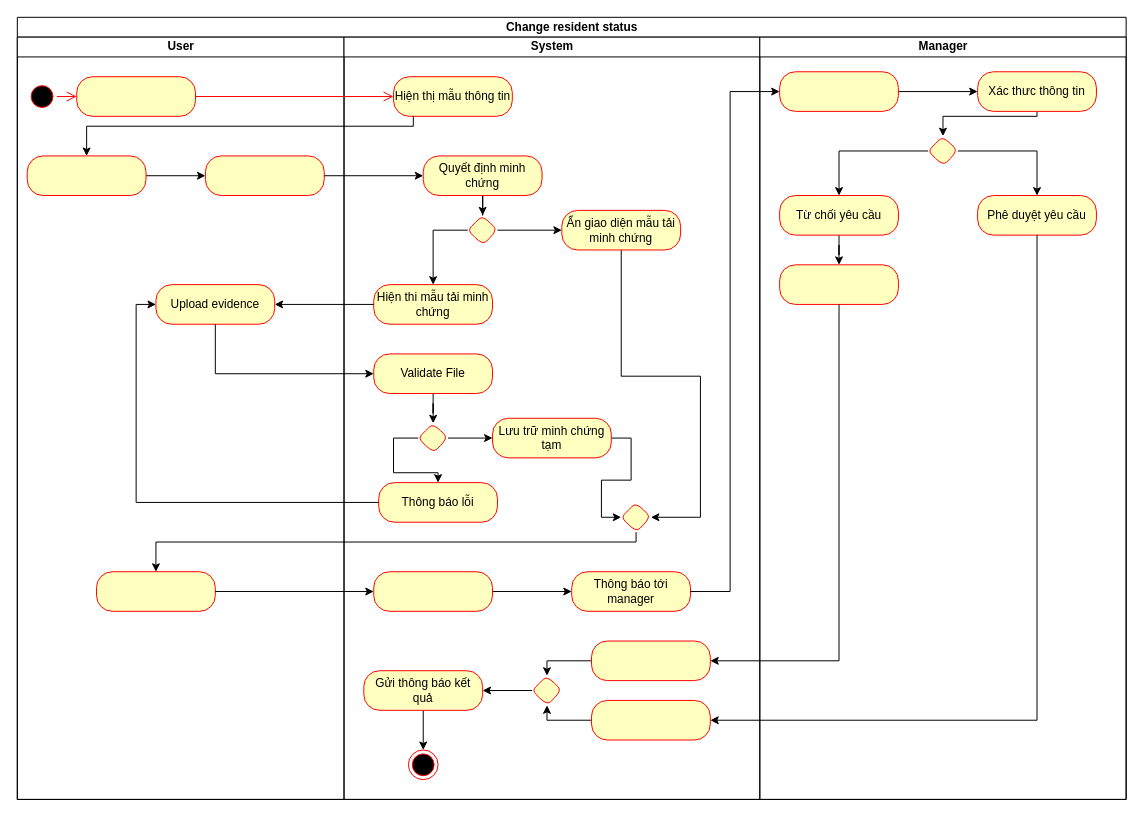
The diagram is 1143 pixels wide and 817 high, and some of its shapes have lost their labels. The shapes that lost their labels are listed below. From the top down, each one's centre as x and y in pixels, then its label:
At (136,96): "Thay đổi trạng thái cư trú".
At (838,91): "Nhận yêu cầu".
At (86,175): "Chọn trạng thái cư trú".
At (264,175): "Nhập thông tin bổ sung".
At (838,284): "Tạo lí do".
At (155,591): "Submit thông tin".
At (433,591): "Lưu hồ sơ".
At (650,660): "Cập nhật hồ sơ".
At (650,719): "Cập nhật thông tin phòng".
